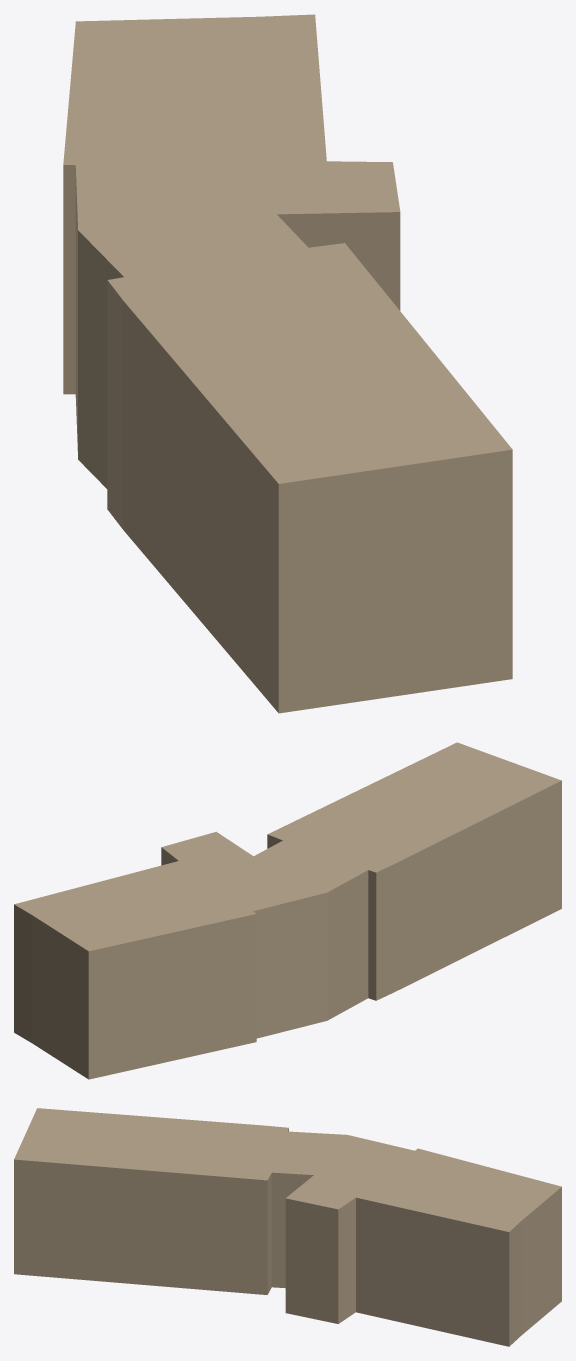
Rendered from bld_99007820.dae.
The picture shows the model from 3 angles, top to bottom: view 1: azimuth 30°, elevation 25°; view 2: azimuth 150°, elevation 25°; view 3: azimuth 270°, elevation 25°; orthographic projection. The views are drawn at different scales.
Parts seen in each view (by area): view 1: bld_99007820; view 2: bld_99007820; view 3: bld_99007820.
Boxes of the visible parts, left/top/right/bottom form: bld_99007820: left=63, top=14, right=512, bottom=713; bld_99007820: left=14, top=742, right=561, bottom=1079; bld_99007820: left=14, top=1108, right=561, bottom=1346.
Size of the model in its own units: 18.55 by 34.63 by 8.
